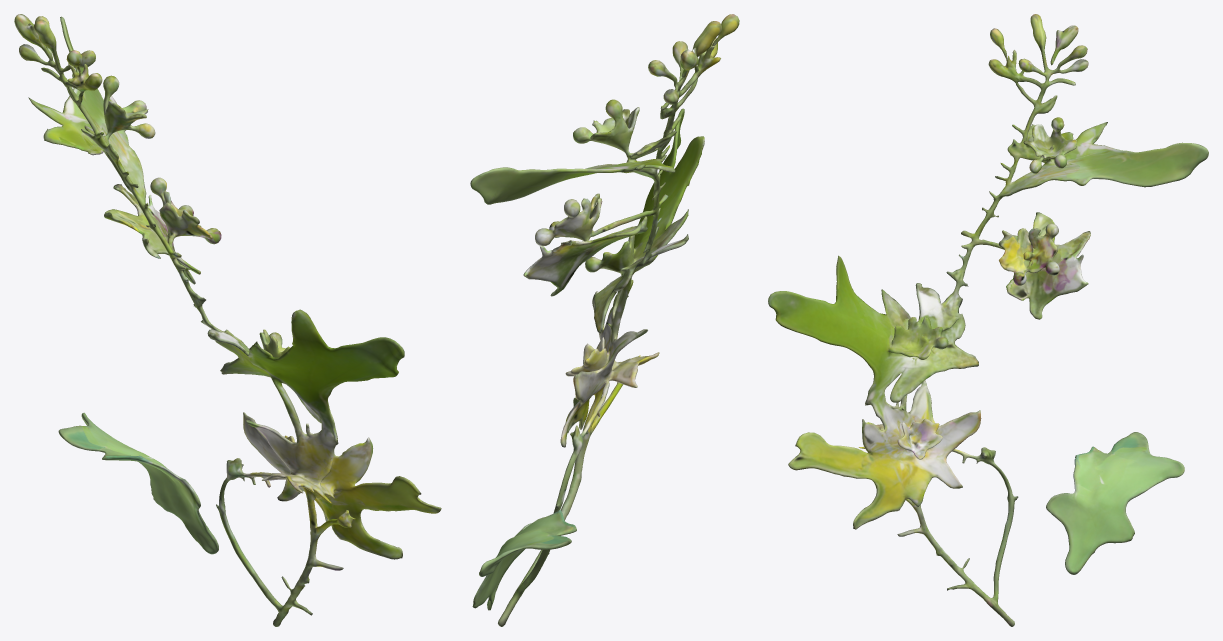
The model's file is Thootuvalai.glb.
3 views of the same model, side by side, from view 1: azimuth 30°, elevation 25°; view 2: azimuth 150°, elevation 25°; view 3: azimuth 270°, elevation 25° (orthographic). The views are drawn at different scales.
Size of the model in its own units: 0.818 by 1.99 by 1.51.
Materials: 1 (1 with a texture image).
